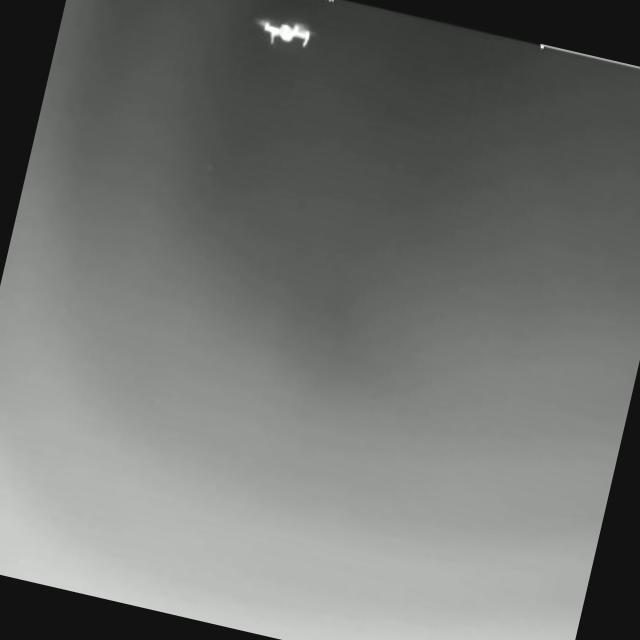DRONE: (256, 15, 320, 49)
